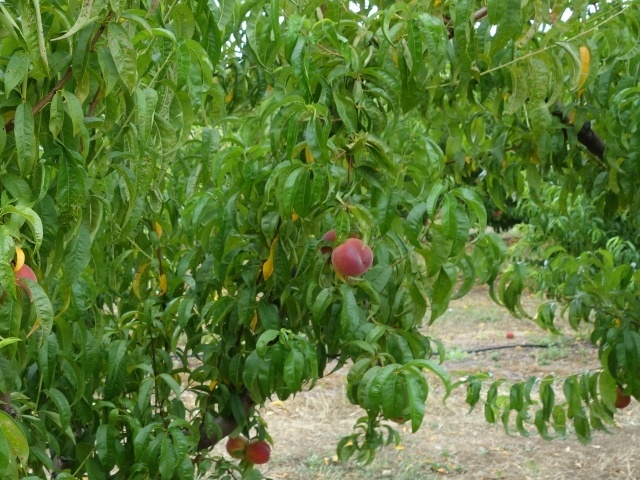peach: (328, 236, 374, 282), (1, 258, 43, 304), (320, 225, 361, 255), (243, 435, 273, 469), (225, 432, 253, 462), (609, 382, 632, 412)
